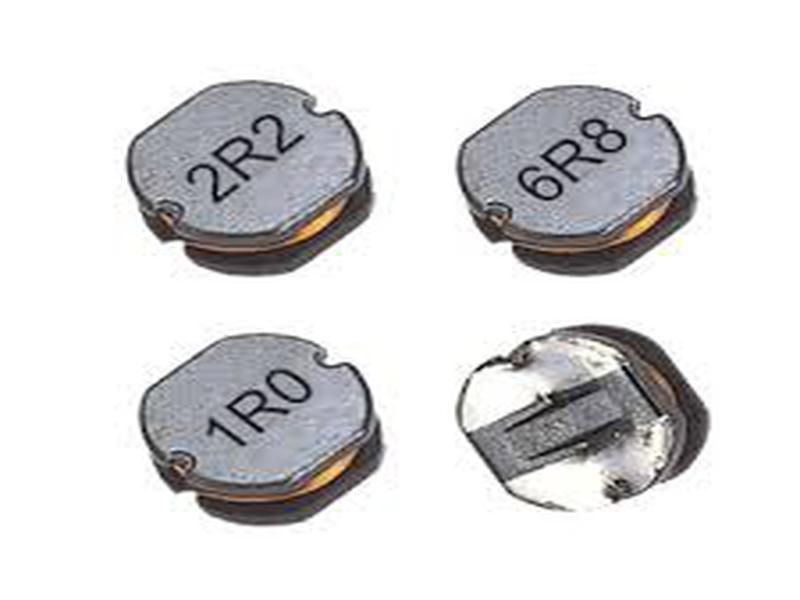inductor_chunk: (464, 331, 710, 521), (138, 334, 381, 526), (129, 75, 365, 264), (458, 82, 688, 261)
